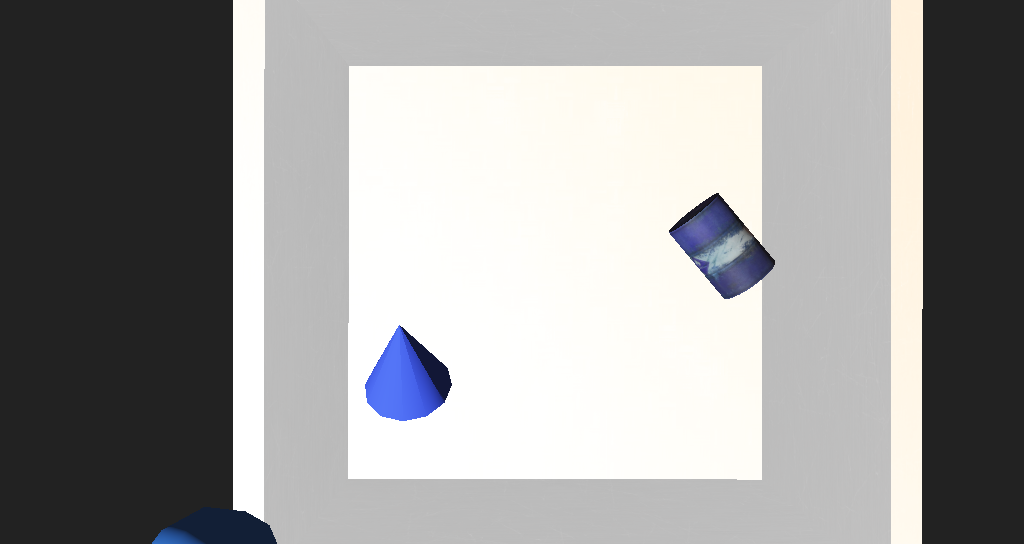cone: (586, 224, 667, 282)
cylinder: (350, 279, 431, 351)
sphere: (232, 375, 320, 437)
